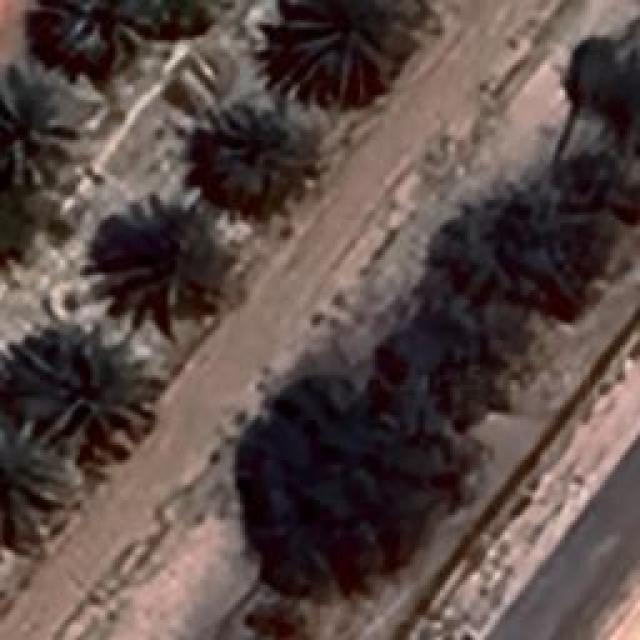PalmTree: (32, 126, 102, 480), (10, 332, 155, 466), (208, 90, 318, 205), (282, 0, 420, 78), (102, 105, 168, 261), (0, 60, 78, 185), (57, 0, 155, 60)
